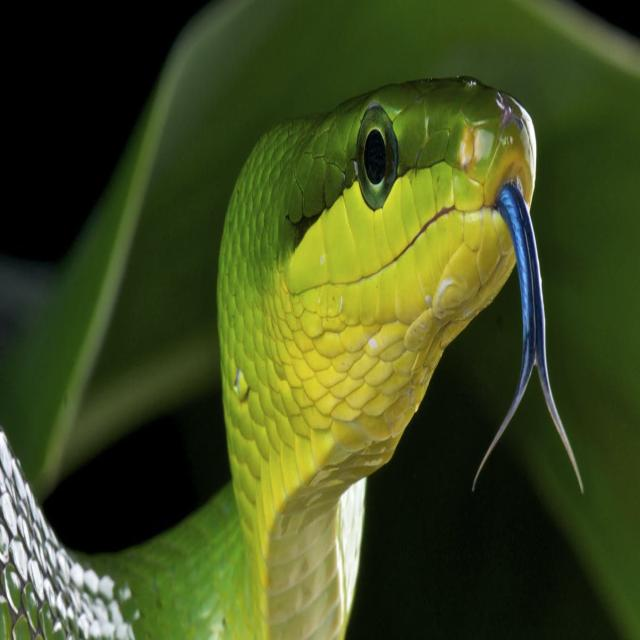Snake: (0, 51, 543, 640)
